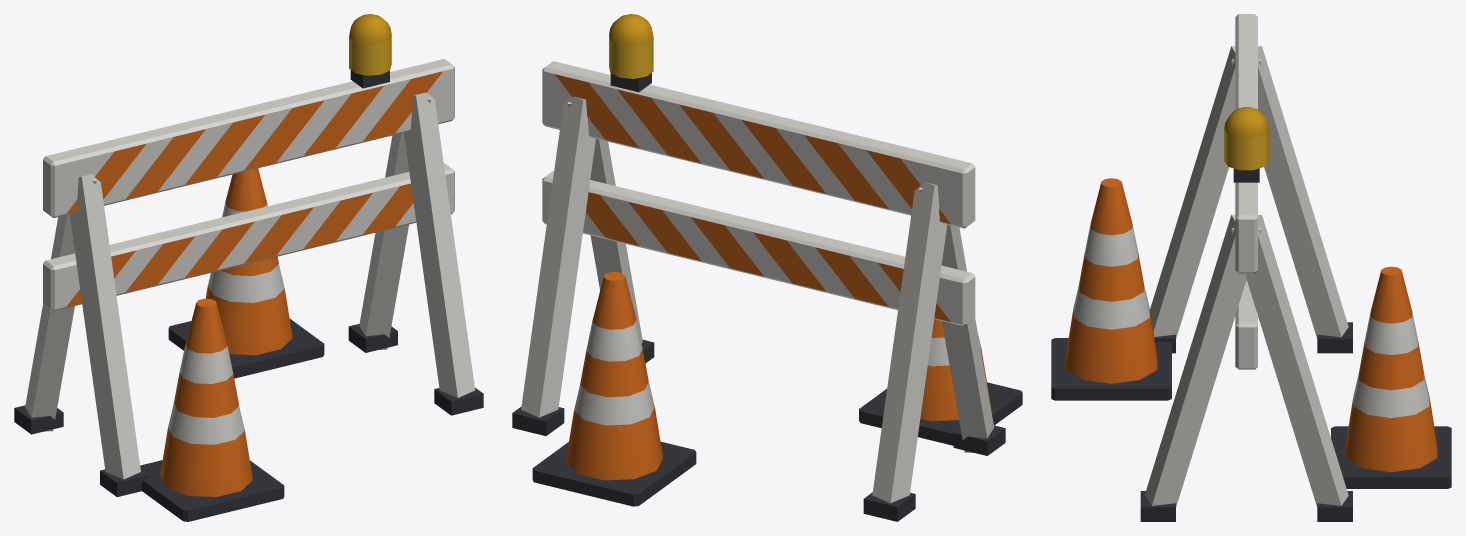
The model's file is site-prop3.glb.
The picture shows the model from 3 angles, left to right: view 1: azimuth 30°, elevation 25°; view 2: azimuth 150°, elevation 25°; view 3: azimuth 270°, elevation 25°; orthographic projection. The views are drawn at different scales.
Visible parts, largest first — view 1: site-prop3; view 2: site-prop3; view 3: site-prop3.
Part boxes in pixels (x1,y1,x2,y2): site-prop3: (14, 14, 483, 521); site-prop3: (512, 14, 1022, 521); site-prop3: (1051, 14, 1451, 521).
Size of the model in its own units: 1.5 by 1.32 by 1.24.
